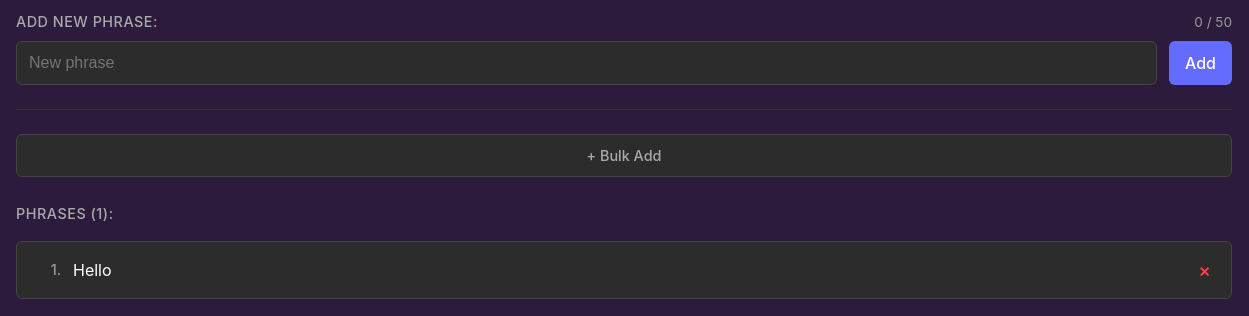
Test: PhraseListManager.vue › Inline edit › enters edit mode when phrase text is clicked
The width and height of the screenshot is (1249, 316).
Click the text "Hello": [92, 270] box [73,260,112,280]
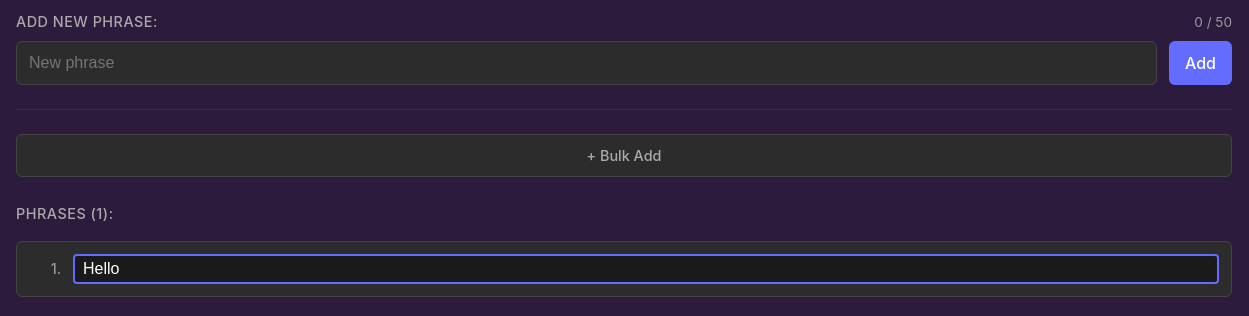
Check: the field with class "edit-input" is shown, box [73,254,1219,284]
